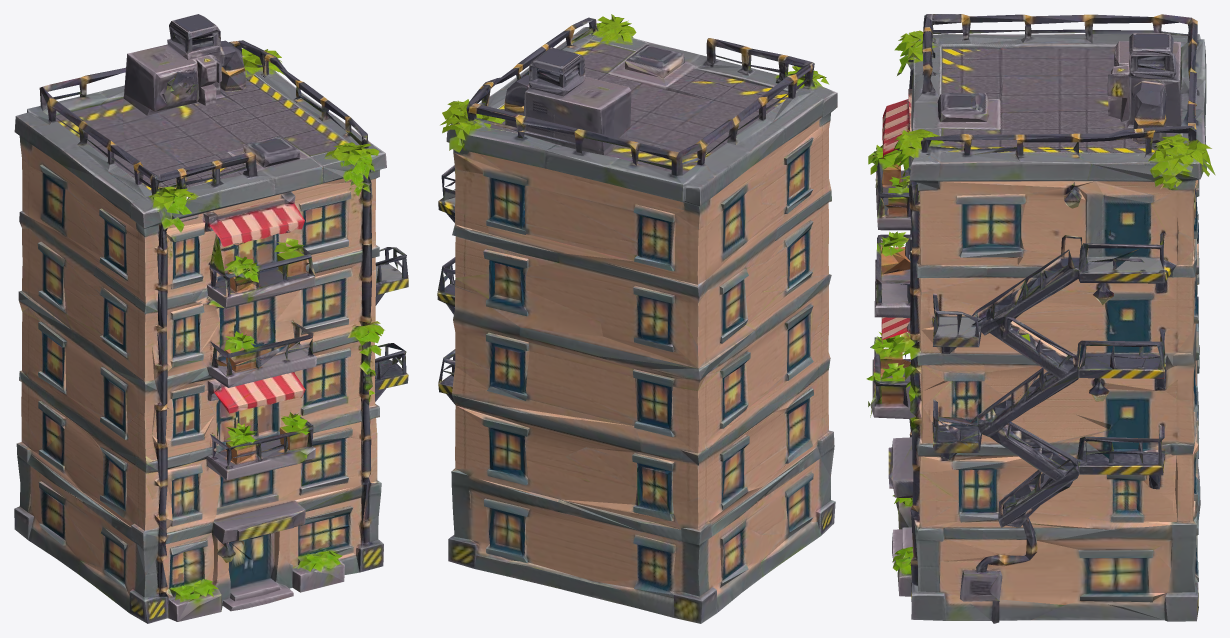
Rendered from yellow_apartment_building.glb.
The picture shows the model from 3 angles, left to right: view 1: azimuth 30°, elevation 25°; view 2: azimuth 150°, elevation 25°; view 3: azimuth 270°, elevation 25°; orthographic projection. The views are drawn at different scales.
Parts seen in each view (by area): view 1: output_unwrapped; view 2: output_unwrapped; view 3: output_unwrapped.
Boxes of the visible parts, box(x1,y1,x2,y2) form: output_unwrapped: box(14, 14, 408, 623); output_unwrapped: box(437, 14, 837, 623); output_unwrapped: box(866, 14, 1215, 623).
Size of what is drawn, in the model's own units: 0.5949 by 1 by 0.5902.
1 material, 1 textured.
